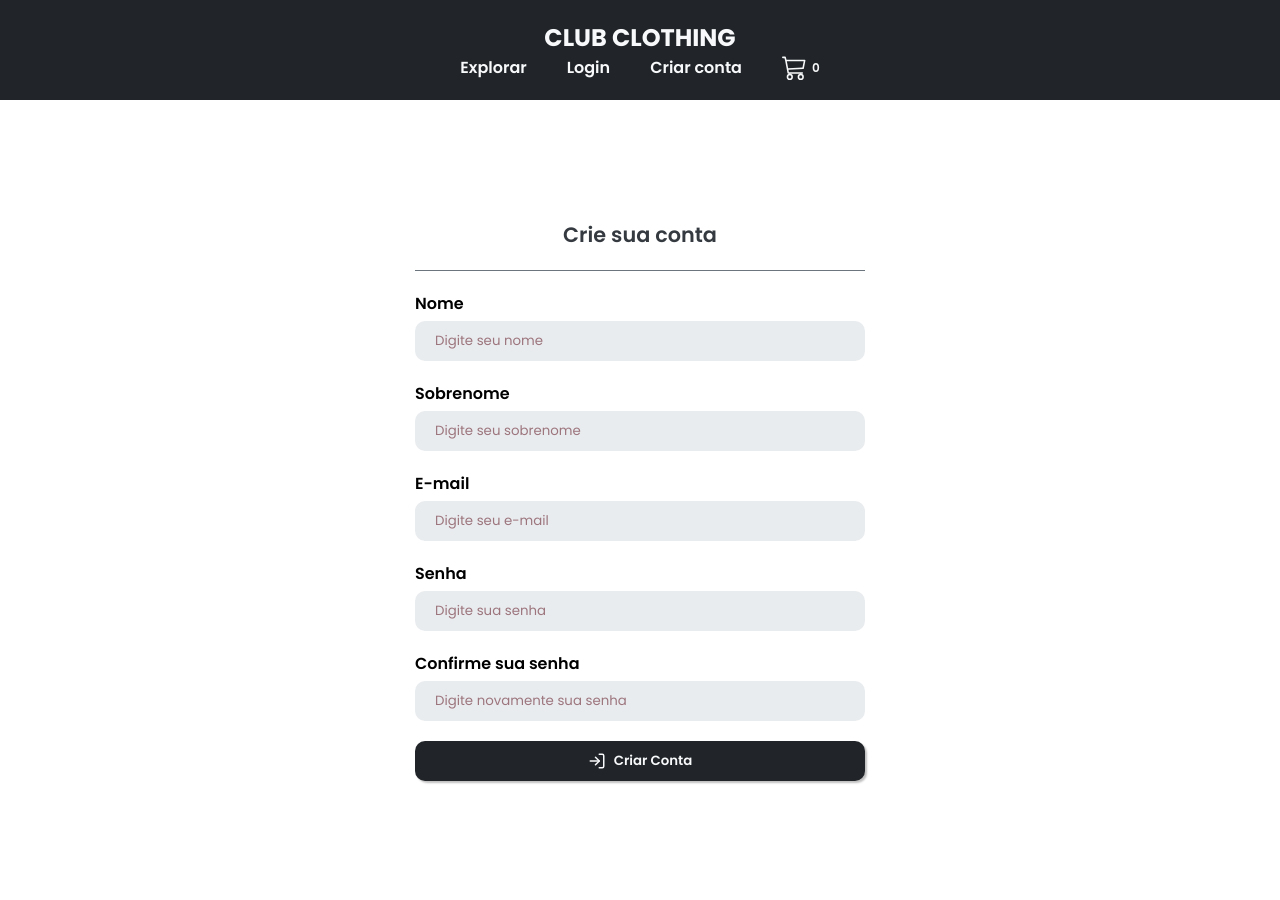
Test case: Sign Up › should show error when password and password confirmation are diferent
Type "123456" into the password field with placeholder "Digite sua senha".
click(640, 611); type("123456")  # box [415,591,865,631]
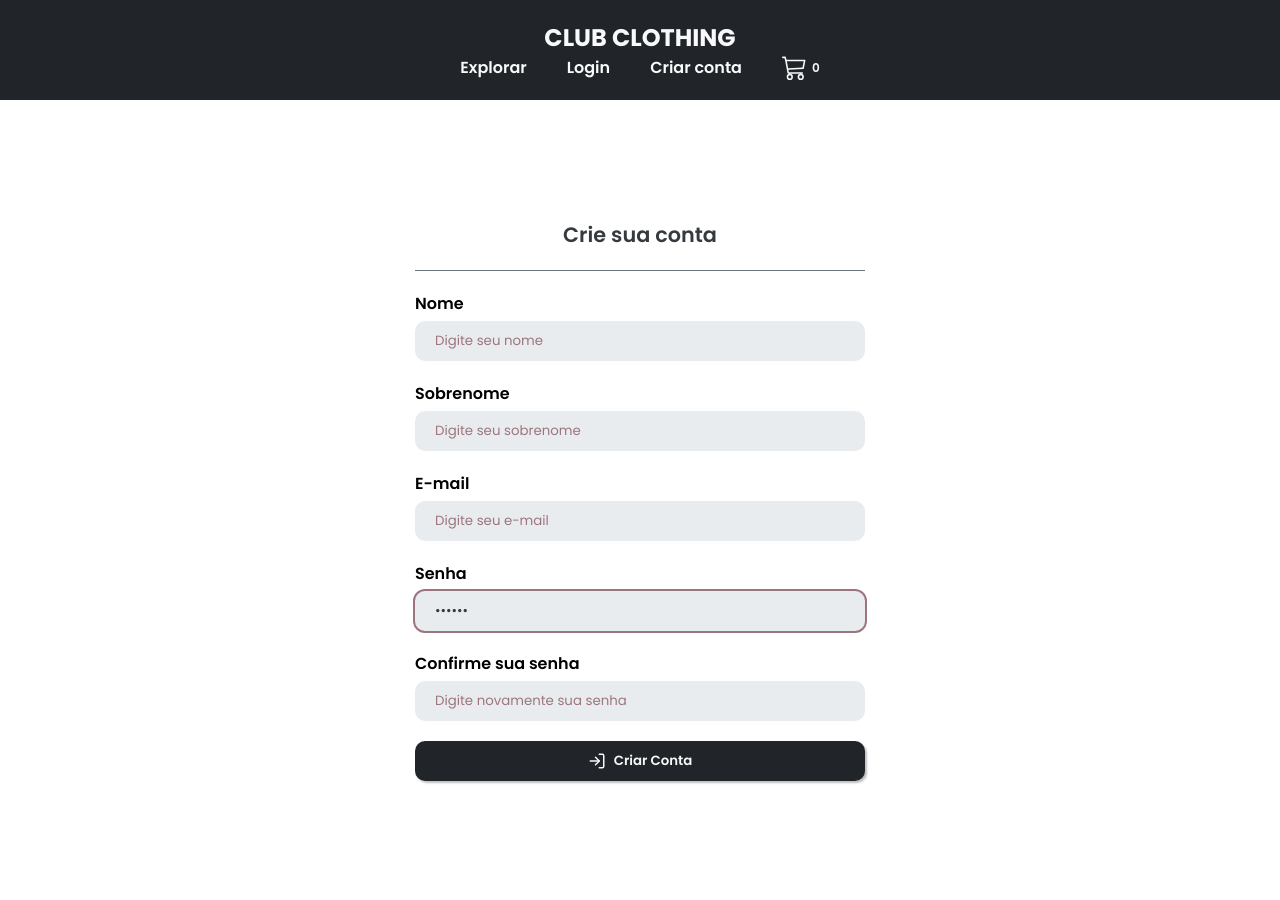
Type "123456789" into the password field with placeholder "Digite novamente sua senha".
click(640, 701); type("123456789")  # box [415,681,865,721]
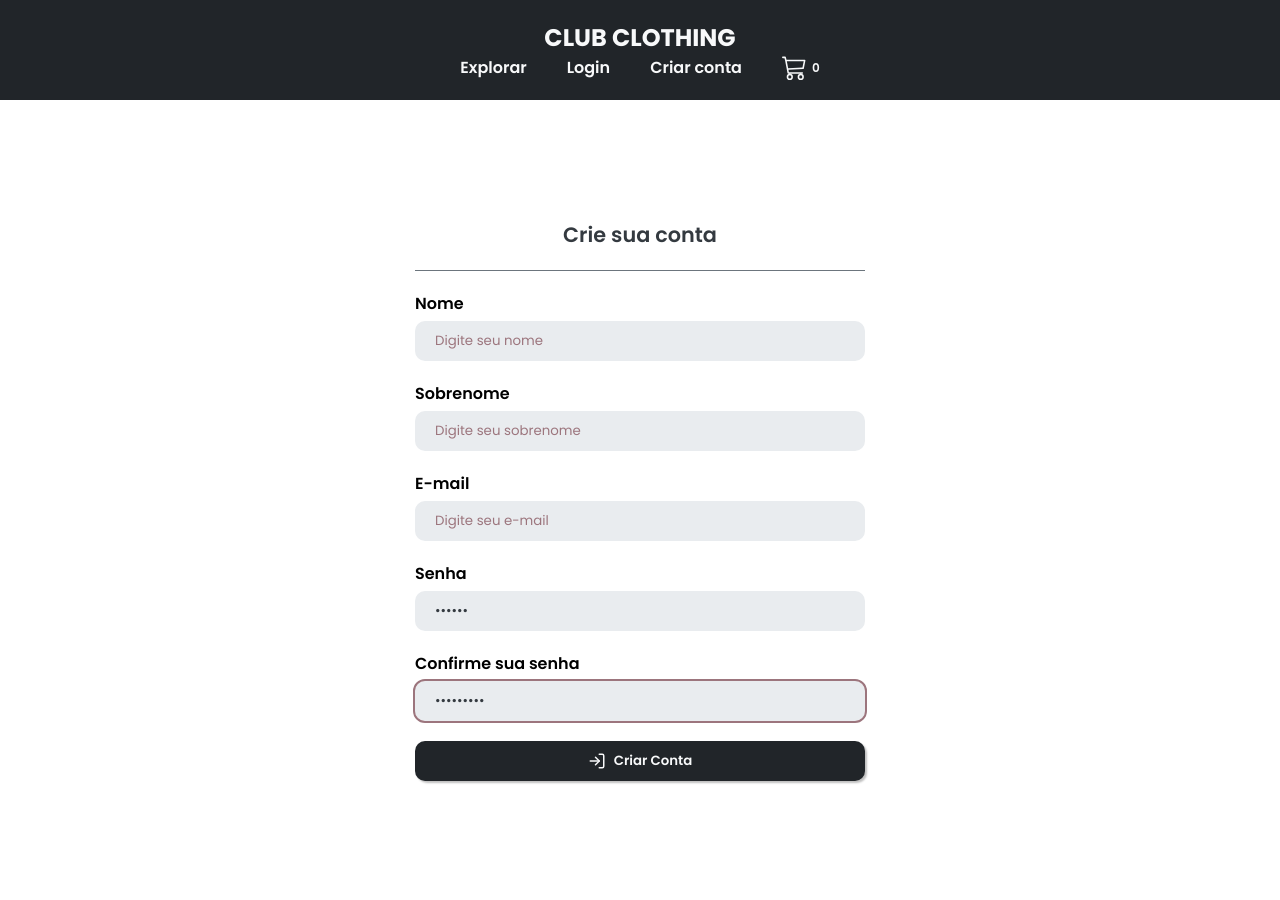
Click the button "Criar Conta".
click(640, 761)  # box [415,741,865,781]
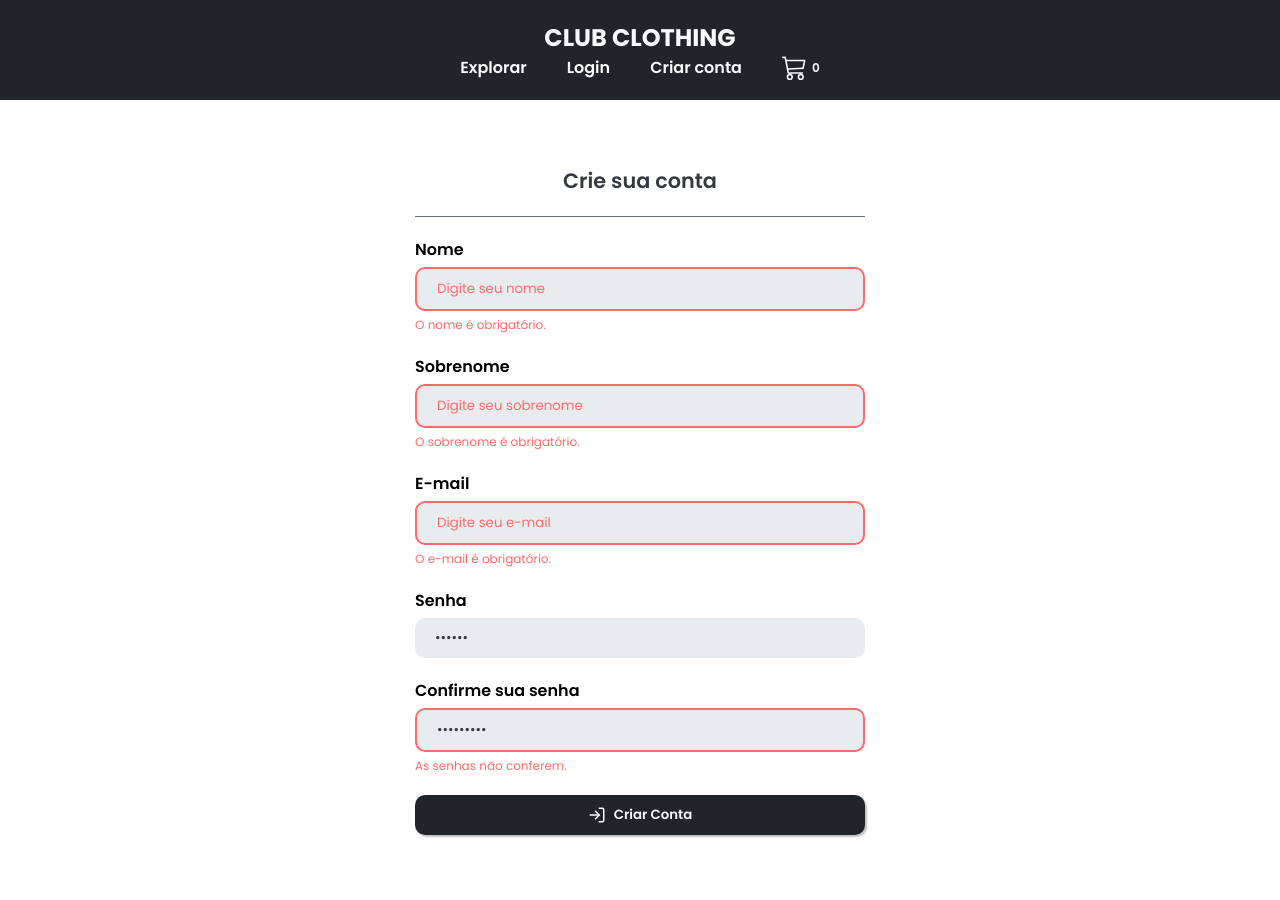
Now the text "As senhas não conferem." is shown, box [415,757,567,774]
